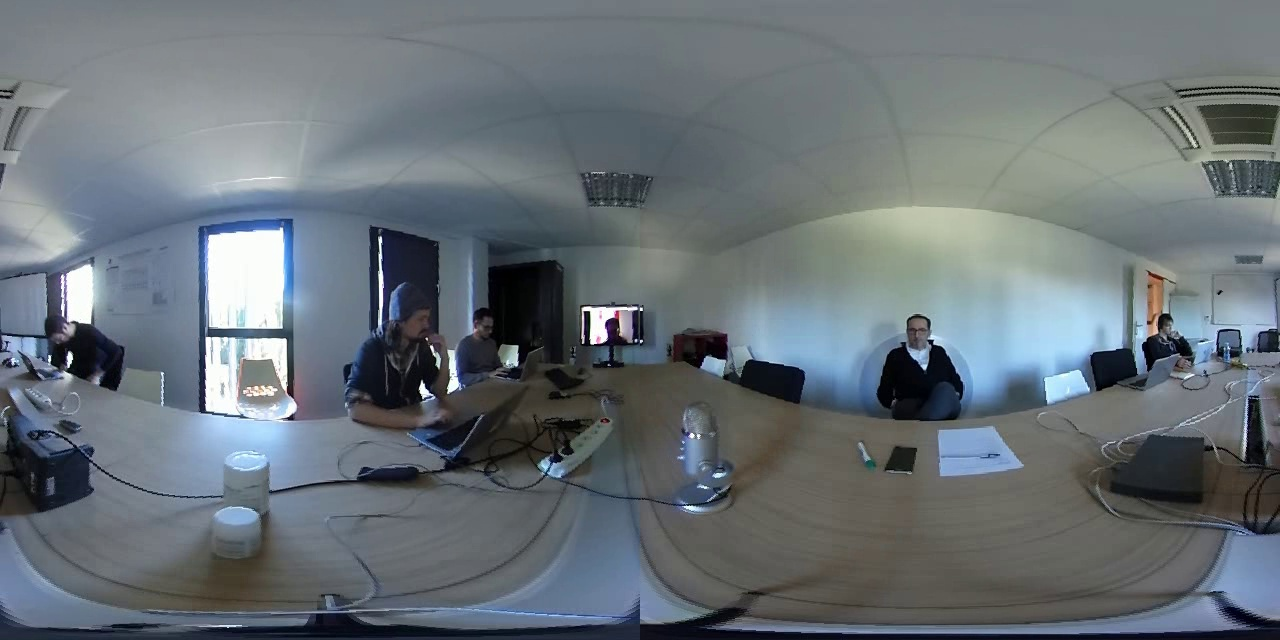person: (335, 277, 455, 425), (874, 307, 974, 409), (34, 307, 126, 374), (462, 294, 514, 379), (580, 303, 644, 340), (1150, 303, 1186, 364)
